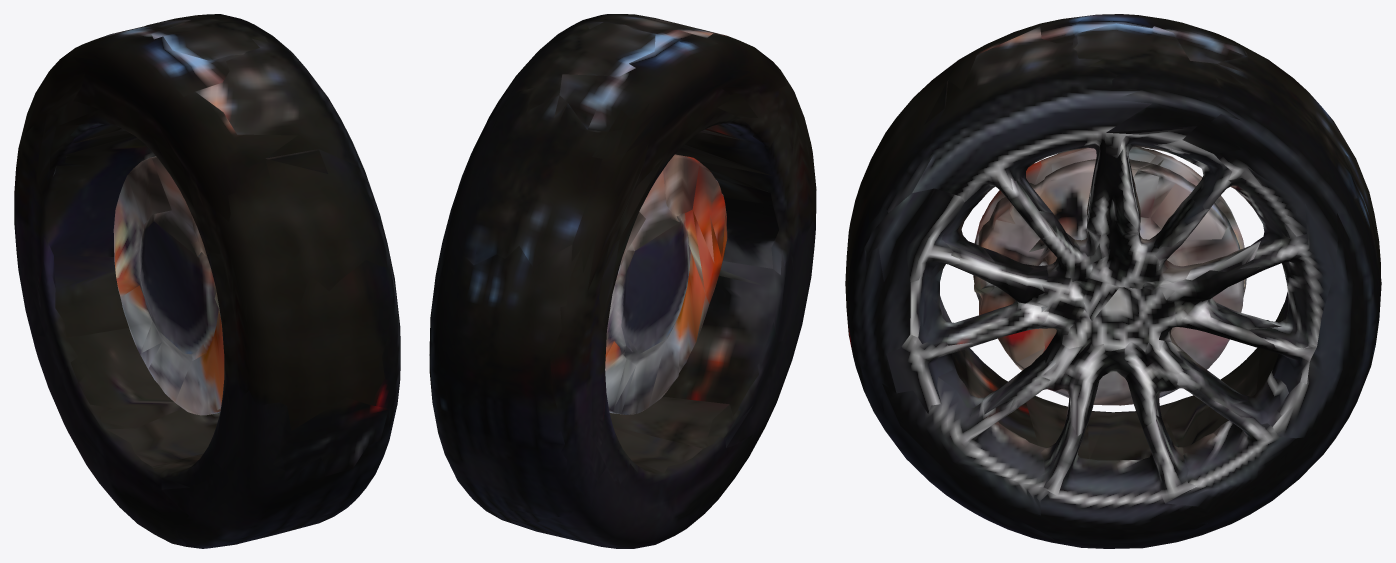
The model's file is AvanteN_Wheel_RL.fbx.
3 views of the same model, side by side, from view 1: azimuth 30°, elevation 25°; view 2: azimuth 150°, elevation 25°; view 3: azimuth 270°, elevation 25° (orthographic).
Visible parts, largest first — view 1: AvanteN_Wheel_RL; view 2: AvanteN_Wheel_RL; view 3: AvanteN_Wheel_RL.
Part boxes in pixels (x1=…): AvanteN_Wheel_RL: x1=14, y1=14, x2=400, y2=548; AvanteN_Wheel_RL: x1=429, y1=14, x2=816, y2=548; AvanteN_Wheel_RL: x1=845, y1=14, x2=1381, y2=548.
Bounding box in the file's own units: 0.2306 × 0.7005 × 0.699.
1 material, 1 textured.
